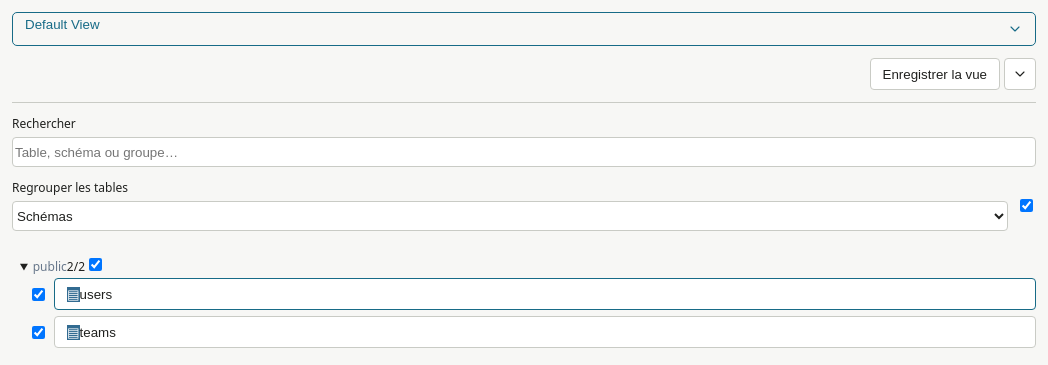
Scenario: ViewInspector › keeps Default View first and hides its destructive actions and detail controls
Click the button with aria-label "Choisir une vue" at (62, 24), box x1=13 y1=13 x2=1035 y2=45
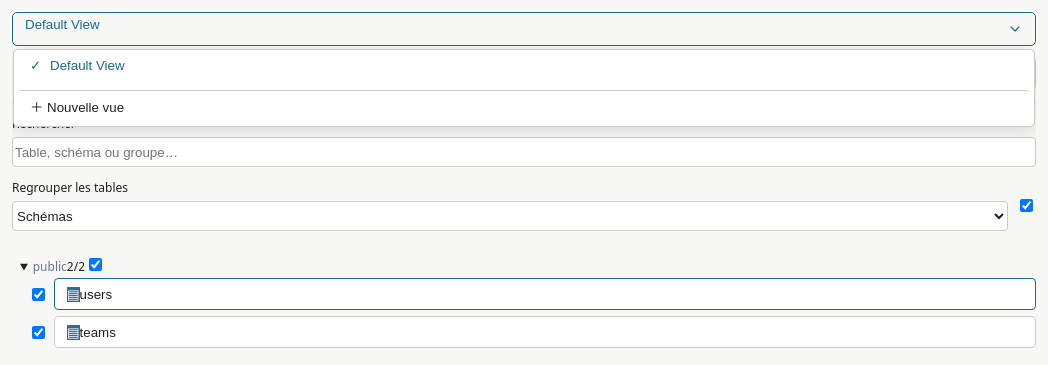
Check: the button "✓ Default View" is shown, box x1=18 y1=54 x2=1030 y2=86
